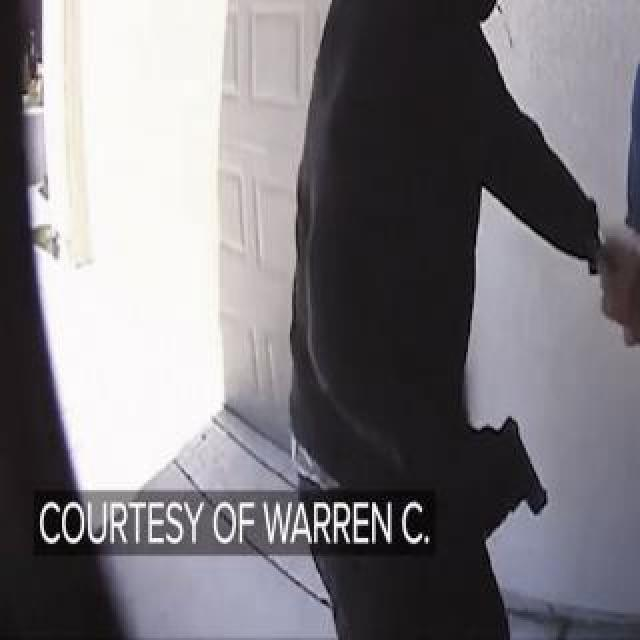Guns: (480, 406, 565, 532)
